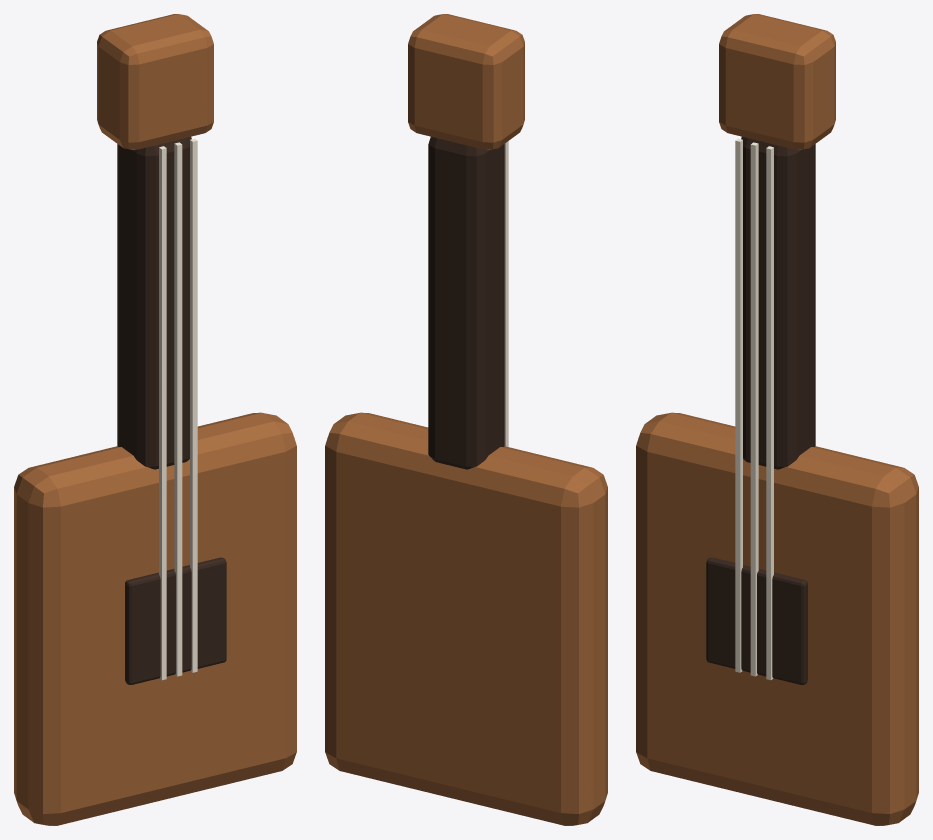
Rendered from prop_gitar.fbx.
The picture shows the model from 3 angles, left to right: view 1: azimuth 30°, elevation 25°; view 2: azimuth 150°, elevation 25°; view 3: azimuth 330°, elevation 25°; orthographic projection.
Parts seen in each view (by area): view 1: prop_gitar; view 2: prop_gitar; view 3: prop_gitar.
Part boxes in pixels (x1=…): prop_gitar: x1=14, y1=14, x2=296, y2=825; prop_gitar: x1=325, y1=14, x2=607, y2=825; prop_gitar: x1=636, y1=14, x2=918, y2=825.
Bounding box in the file's own units: 43 × 118 × 11.8.
1 material, 1 textured.
